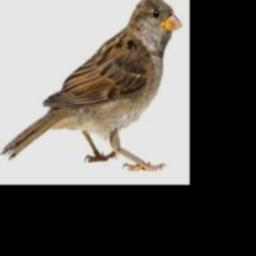Sparrow: (1, 0, 182, 171)
